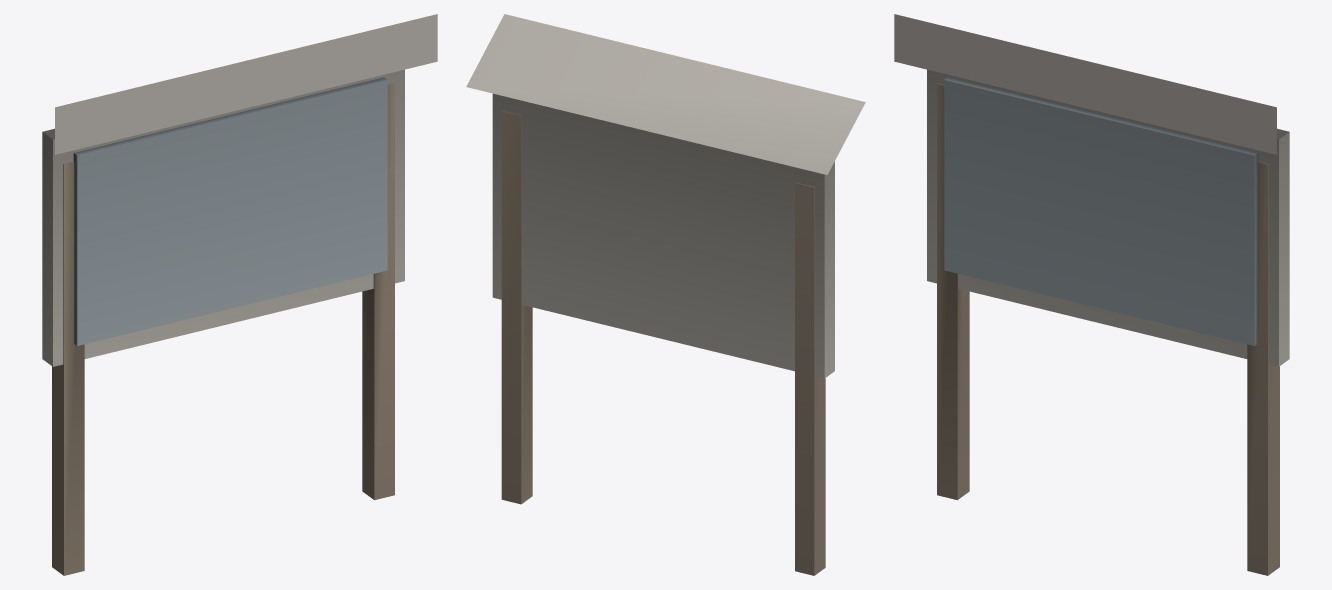
File: notice_board.lod1.glb
The picture shows the model from 3 angles, left to right: view 1: azimuth 30°, elevation 25°; view 2: azimuth 150°, elevation 25°; view 3: azimuth 330°, elevation 25°; orthographic projection. The views are drawn at different scales.
Visible parts, largest first — view 1: props_notice_board.lod1; view 2: props_notice_board.lod1; view 3: props_notice_board.lod1.
Part boxes in pixels (box(x1,y1,x2,y2)): props_notice_board.lod1: box(42, 14, 437, 575); props_notice_board.lod1: box(466, 14, 865, 575); props_notice_board.lod1: box(894, 14, 1289, 575).
Size of the model in its own units: 1.85 by 2.25 by 0.34.
